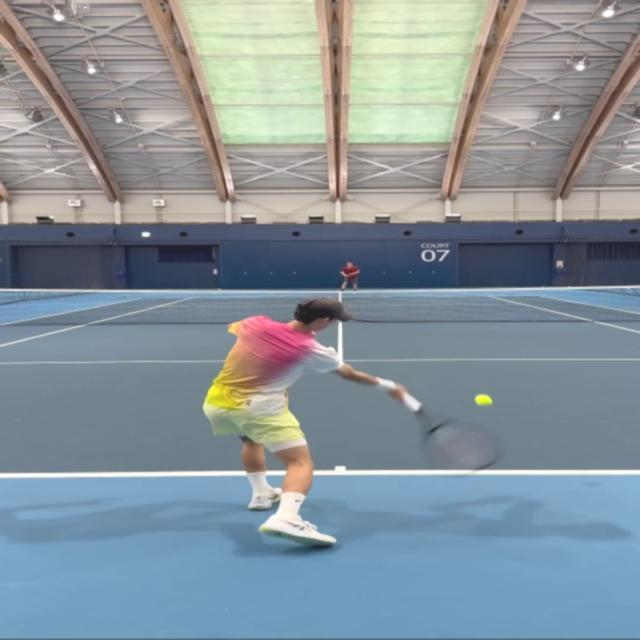tennis_ball: (477, 396, 489, 406)
